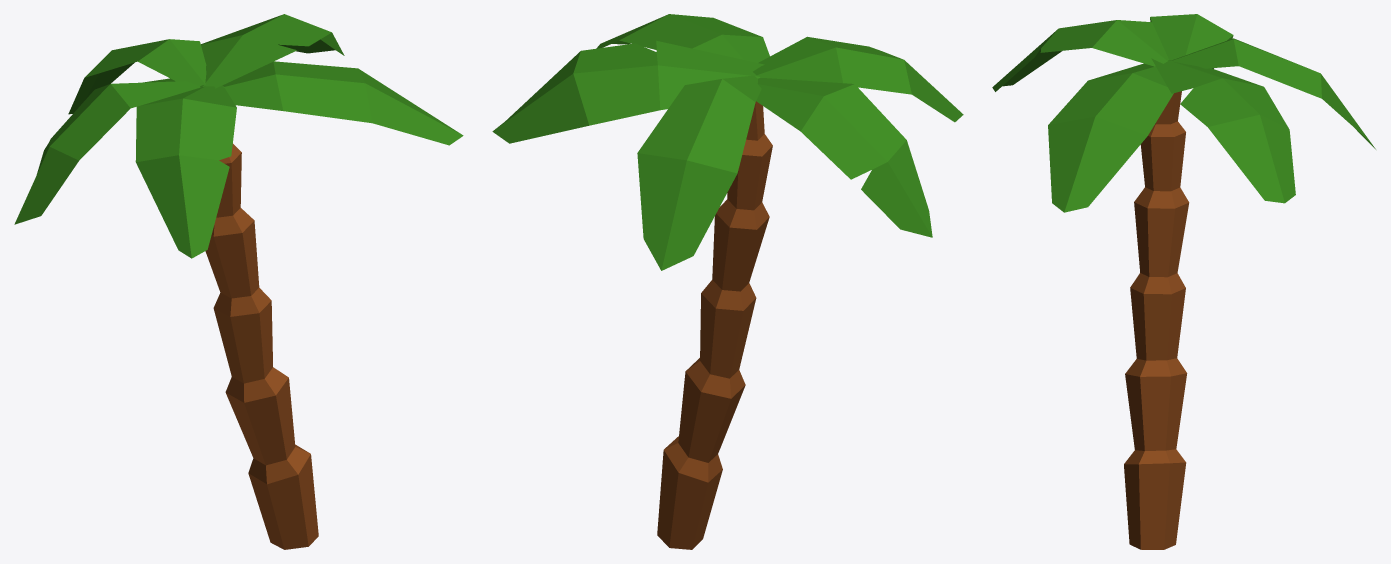
Rendered from PalmTree2_oneside.fbx.
3 renders of one model, left to right at view 1: azimuth 30°, elevation 25°; view 2: azimuth 150°, elevation 25°; view 3: azimuth 270°, elevation 25°, orthographic. The views are drawn at different scales.
Visible parts, largest first — view 1: PalmTree2_oneside; view 2: PalmTree2_oneside; view 3: PalmTree2_oneside.
Part boxes in pixels (x1=…): PalmTree2_oneside: x1=14, y1=14, x2=463, y2=549; PalmTree2_oneside: x1=492, y1=14, x2=963, y2=549; PalmTree2_oneside: x1=992, y1=14, x2=1375, y2=549.
Bounding box in the file's own units: 2.44 × 3 × 2.22.
